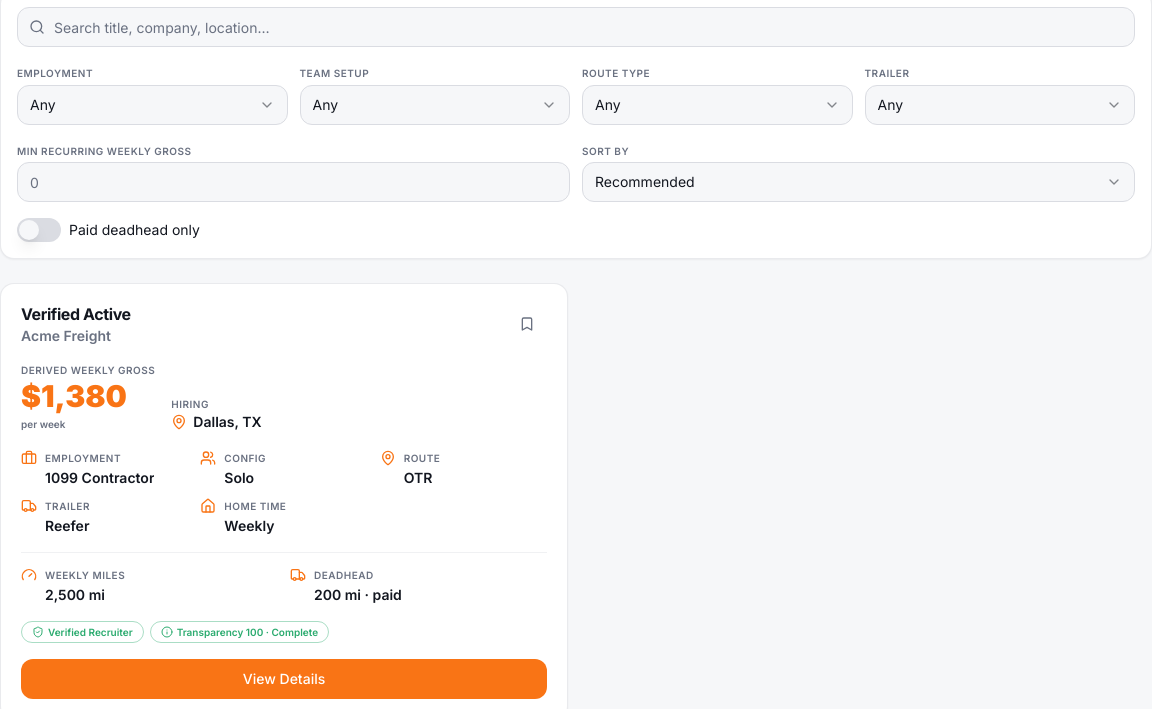
Phase 1L-F2C · Trust separation — verified active vs suspended › 11a. Approved active recruiter renders Verified Recruiter on card and detail without requiring Priority placement
(page scrolled)
expect the text "Verified Recruiter" is shown: met, box [21, 621, 144, 643]
What coordinates should you click on to do the following:
click the button "View Details"
I would click on:
 (284, 679)
Its box is [21, 659, 547, 699].
(page scrolled)
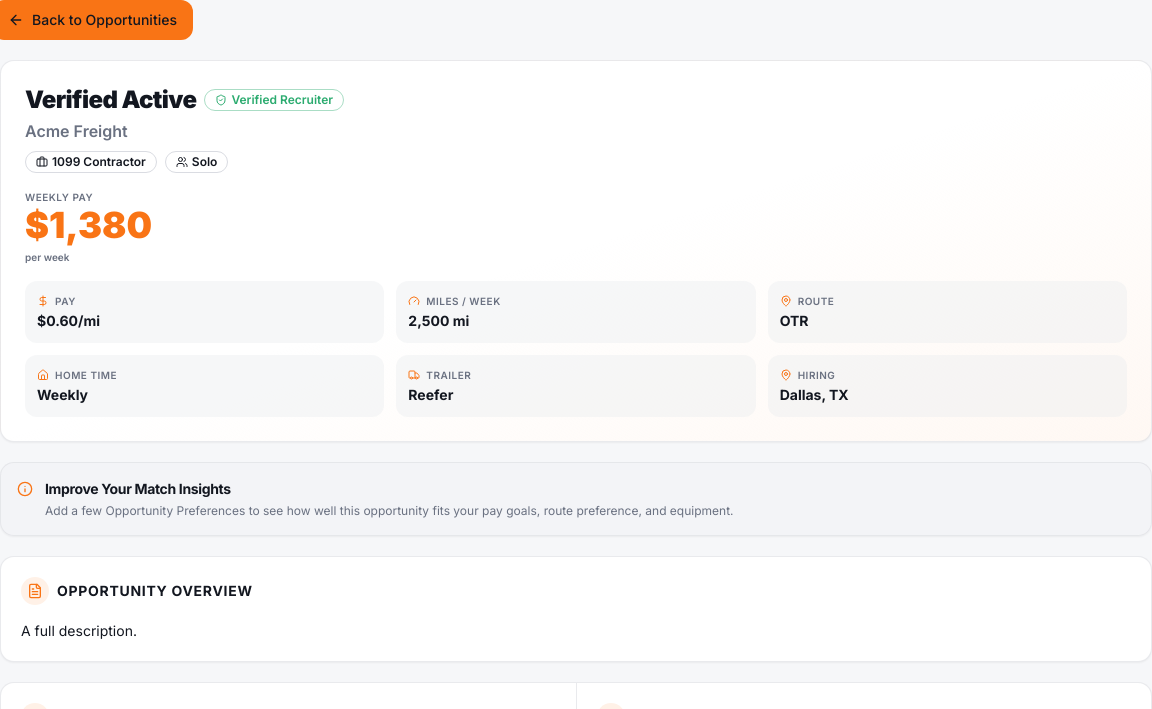
expect the text "Verified Recruiter" is shown: met, box [204, 89, 344, 111]
expect the heading "Verified Active" is shown: met, box [25, 85, 196, 115]
